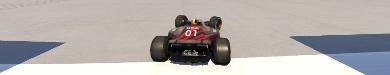Car: (149, 14, 231, 65)
